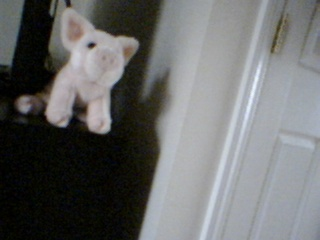piggy: (13, 7, 141, 137)
